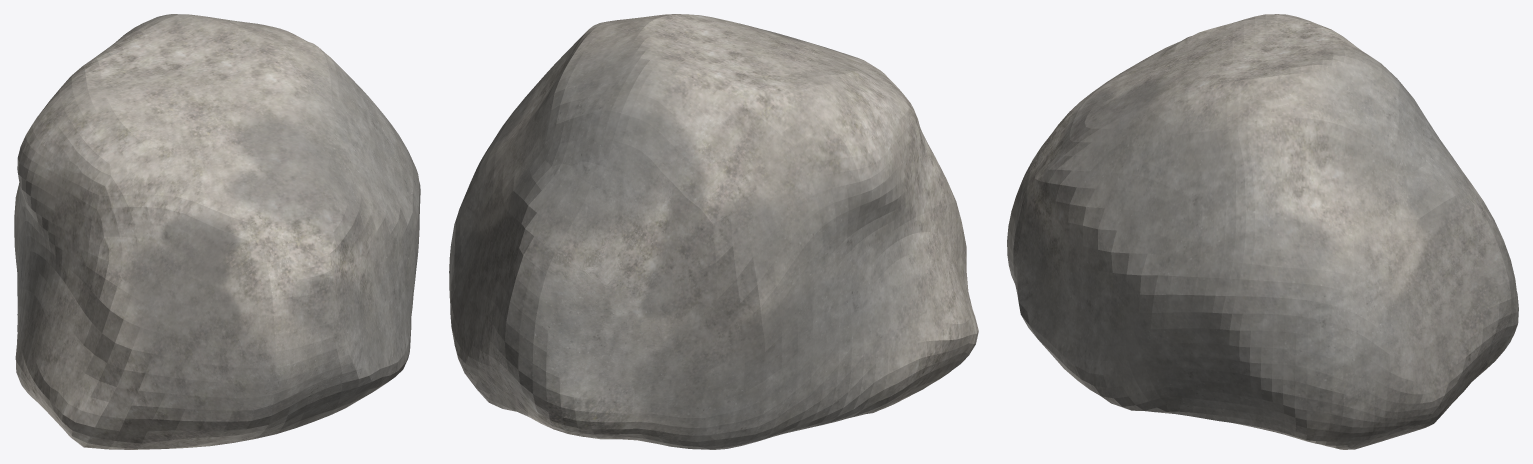
The model's file is rock1.fbx.
3 renders of one model, left to right at view 1: azimuth 30°, elevation 25°; view 2: azimuth 150°, elevation 25°; view 3: azimuth 270°, elevation 25°, orthographic. The views are drawn at different scales.
Parts seen in each view (by area): view 1: rock1:ZBrush_defualt_group; view 2: rock1:ZBrush_defualt_group; view 3: rock1:ZBrush_defualt_group.
Boxes of the visible parts, <box> form: rock1:ZBrush_defualt_group: <box>14,14,420,449</box>; rock1:ZBrush_defualt_group: <box>449,14,978,449</box>; rock1:ZBrush_defualt_group: <box>1007,14,1518,449</box>.
Size of the model in its own units: 2.65 by 2.06 by 2.88.
1 material, 1 textured.
